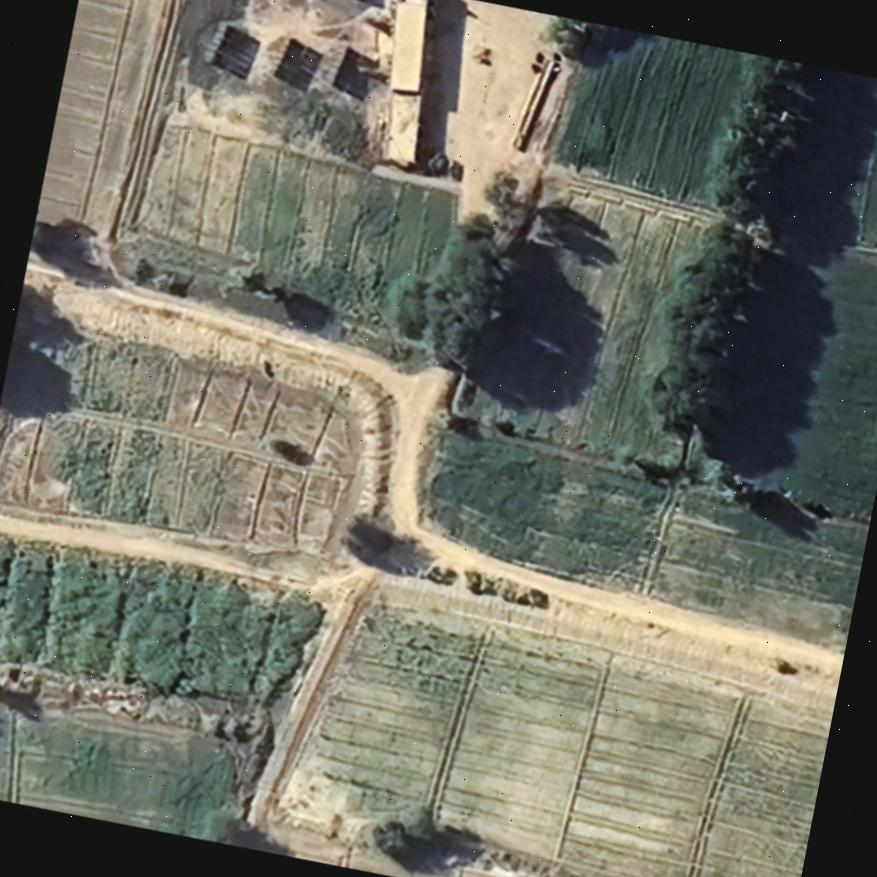Solarpanel: (312, 32, 354, 90), (198, 21, 231, 68)
